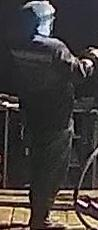vest: (11, 37, 74, 136)
